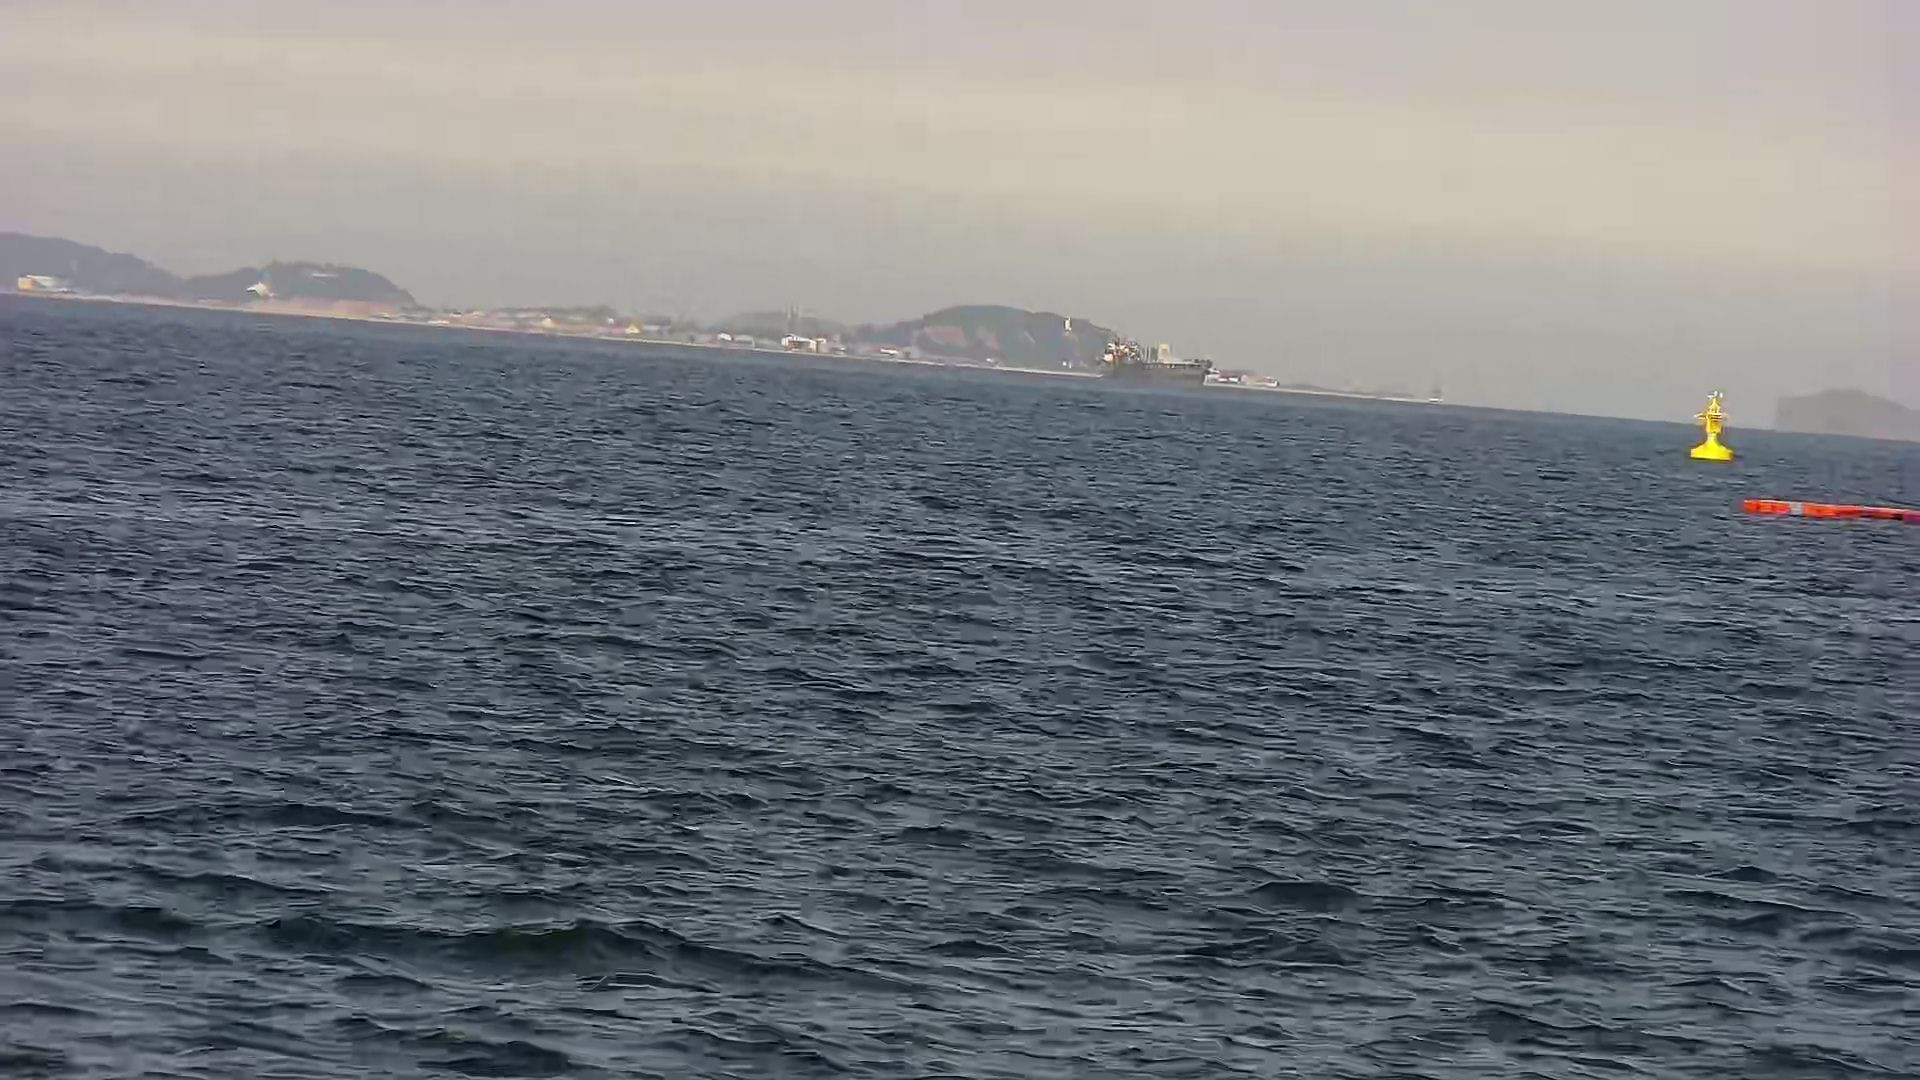buoy: (1687, 392, 1742, 468)
platform: (1733, 484, 1920, 537)
